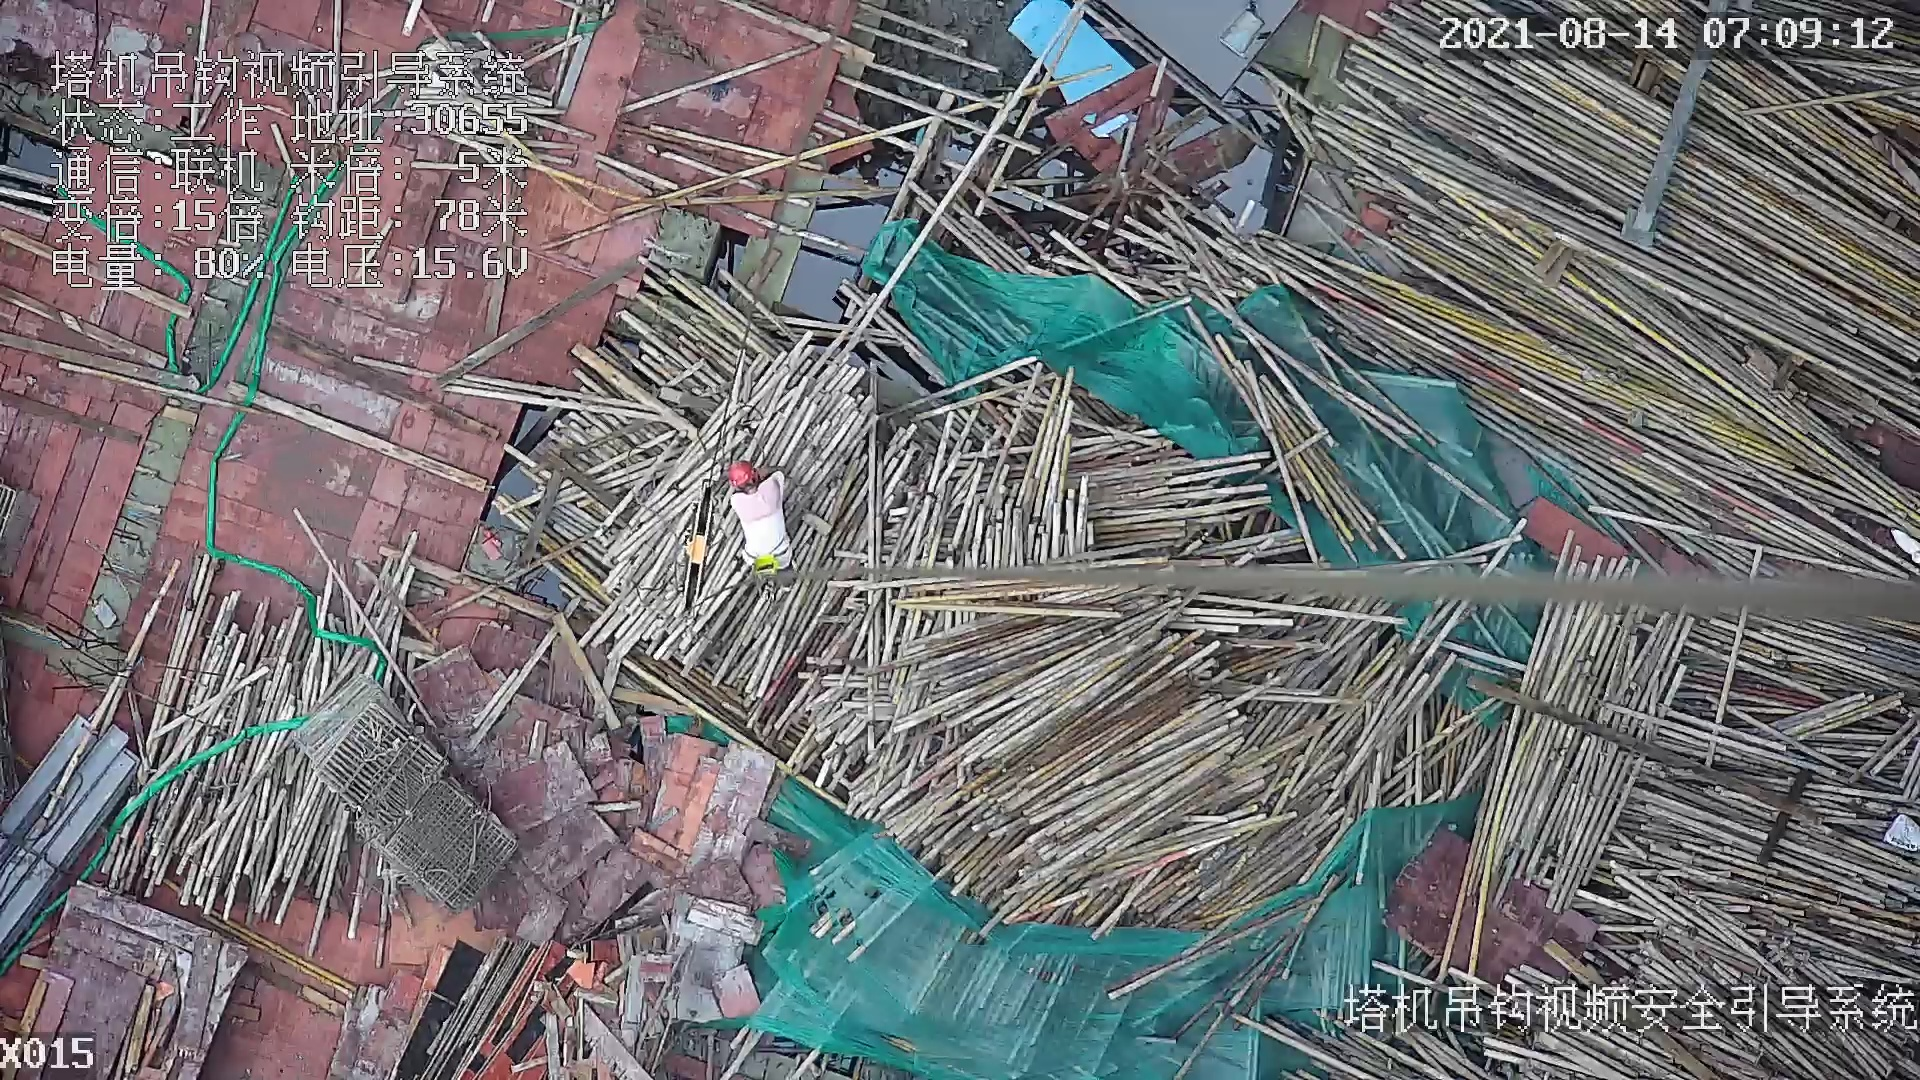helmet: (729, 460, 758, 491)
hook: (677, 477, 726, 614)
person: (726, 462, 805, 582)
